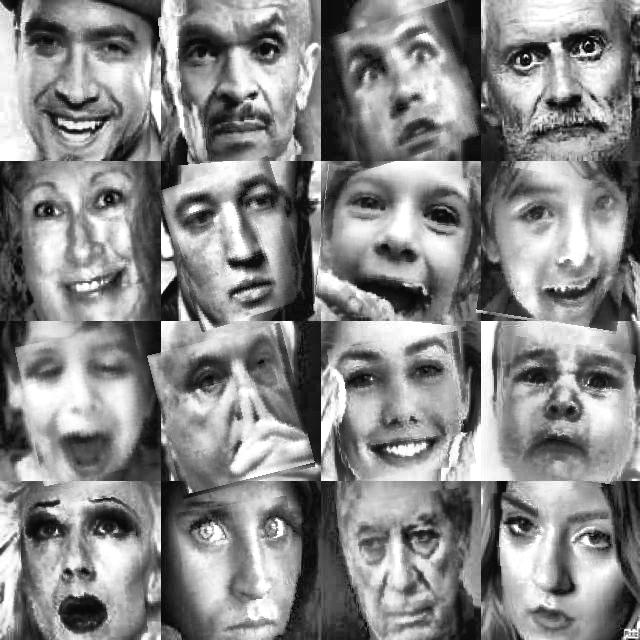angry: (155, 330, 308, 492), (339, 491, 472, 640), (499, 341, 632, 481)
fear: (331, 9, 478, 163), (19, 484, 144, 640)
happy: (316, 168, 478, 324), (482, 170, 634, 329), (487, 2, 631, 153), (12, 14, 150, 160), (22, 329, 154, 481), (332, 336, 472, 478), (18, 173, 148, 319)
neutral: (161, 8, 311, 163), (166, 163, 303, 325), (491, 487, 622, 640), (179, 499, 303, 640)
